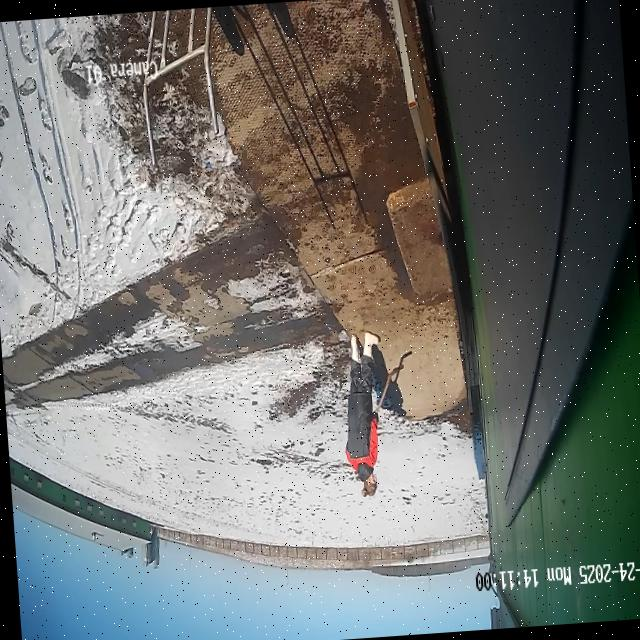Red uniform: (336, 328, 392, 500)
